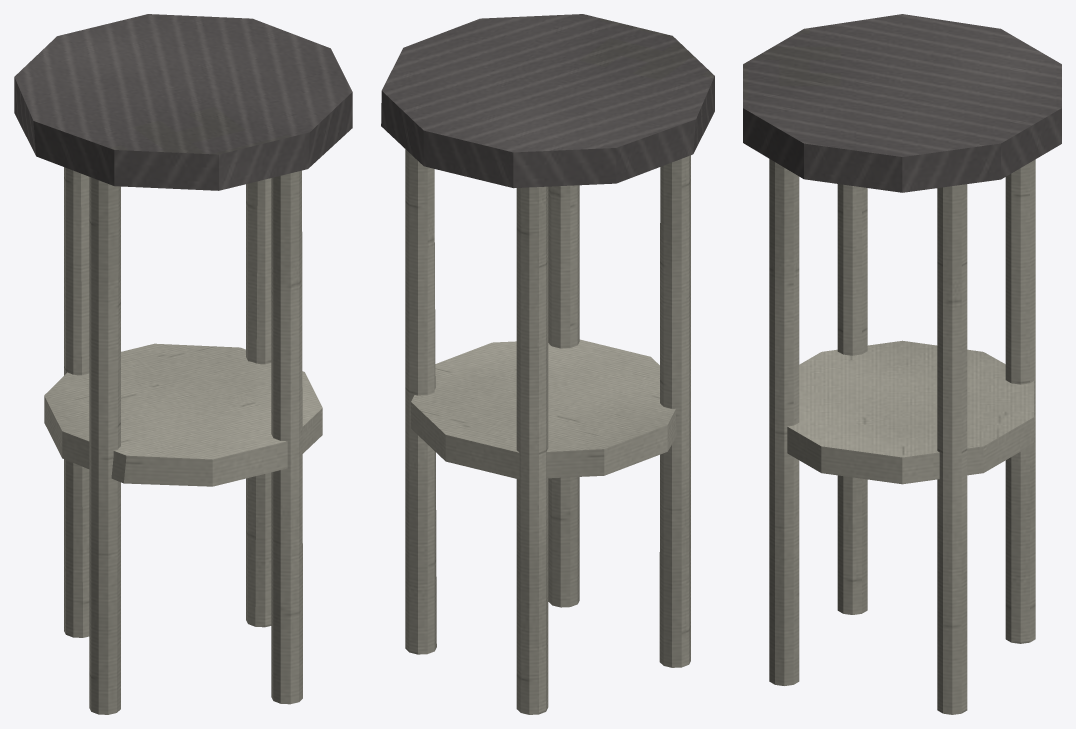
Rendered from stool_v2.glb.
3 renders of one model, left to right at view 1: azimuth 30°, elevation 25°; view 2: azimuth 150°, elevation 25°; view 3: azimuth 270°, elevation 25°, orthographic.
Visible parts, largest first — view 1: Variant_stool_2; view 2: Variant_stool_2; view 3: Variant_stool_2.
Boxes of the visible parts, x1,y1,x2,y2 form: Variant_stool_2: (14,14,352,714); Variant_stool_2: (381,14,714,714); Variant_stool_2: (743,14,1061,714).
Size of the model in its own units: 0.3432 by 0.64 by 0.3234.
Materials: 2 (2 with a texture image).
